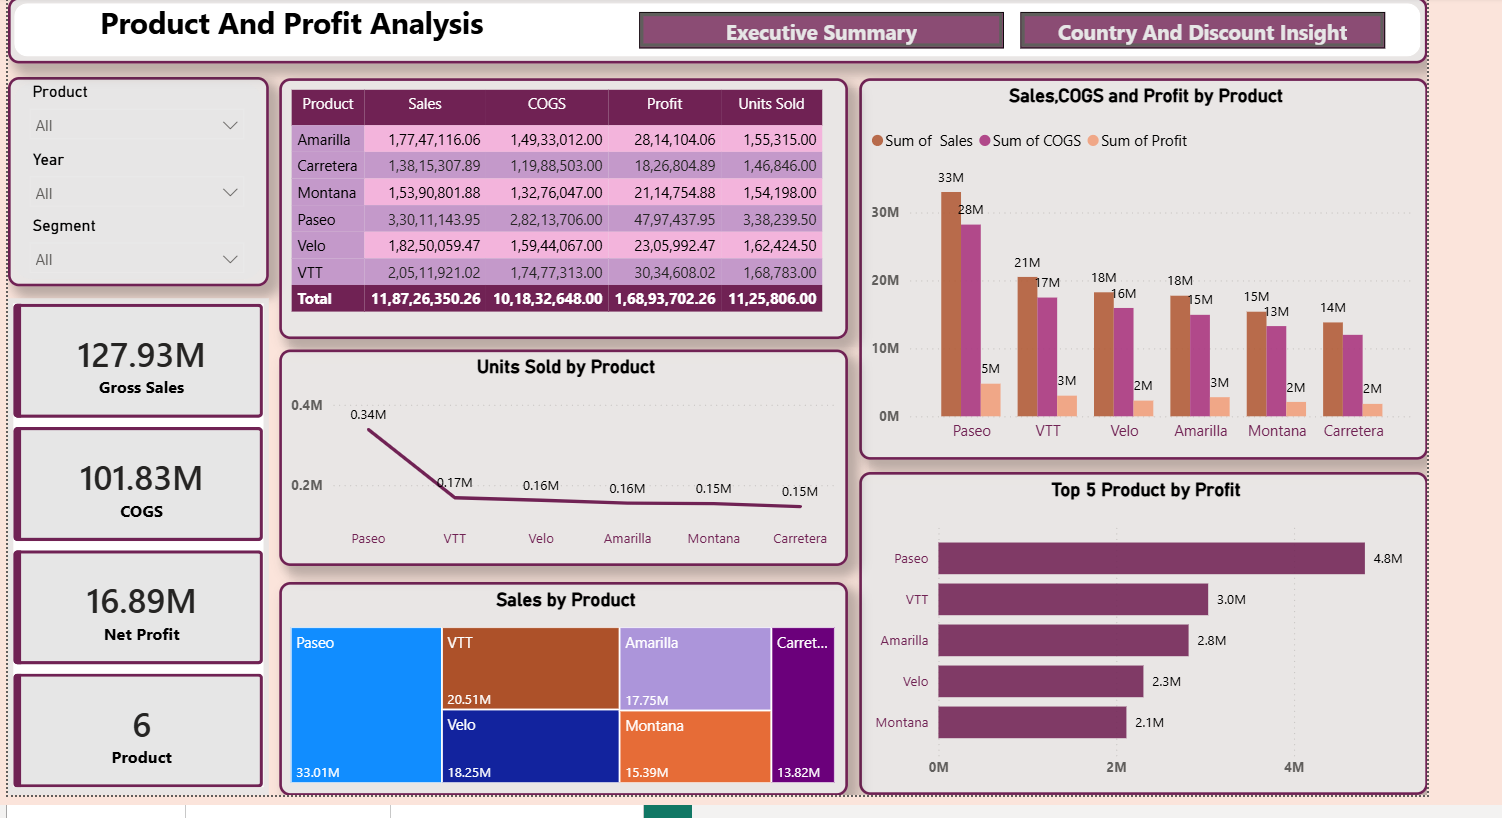

Layout of this report page (visuals, bound fields, positions):
{"tool":"powerbi","page":{"name":"Product Profit Analysis","canvas":[1280,720],"ordinal":1},"visuals":[{"type":"shape","box":[0,72.5,235,188.8],"z":0},{"type":"shape","box":[0,0,1280,60],"z":1000},{"type":"textbox","box":[10,0,491.2,60],"z":2000},{"type":"cardVisual","fields":{"Data":["Sum(financials.Gross Sales)","Sum(financials.COGS)","Sum(financials.Profit)","Count(financials.Product)"]},"box":[0,271.2,235,448.8],"z":3000},{"type":"clusteredColumnChart","title":"Sales,COGS and Profit by Product","fields":{"Category":["financials.Product"],"Y":["Sum(financials. Sales)","Sum(financials.COGS)","Sum(financials.Profit)"]},"box":[767.5,73.8,512.5,343.8],"z":4000},{"type":"barChart","title":"Top 5 Product by Profit","fields":{"Category":["financials.Product"],"Y":["Sum(financials.Profit)"]},"box":[767.5,428.8,512.5,291.2],"z":5000},{"type":"treemap","title":"Sales by Product","fields":{"Group":["financials.Product"],"Values":["Sum(financials. Sales)"]},"box":[245,527.5,512.5,192.5],"z":6000},{"type":"tableEx","fields":{"Values":["financials.Product","Sum(financials. Sales)","Sum(financials.COGS)","Sum(financials.Profit)","Sum(financials.Units Sold)"]},"box":[245,73.8,512.5,235],"z":7000},{"type":"lineChart","title":"Units Sold by Product","fields":{"Category":["financials.Product"],"Y":["Sum(financials.Units Sold)"]},"box":[245,317.5,512.5,195],"z":8000},{"type":"slicer","fields":{"Values":["financials.Product"]},"box":[8.8,72.5,213.8,60],"z":9000},{"type":"slicer","fields":{"Values":["financials.Year"]},"box":[8.8,132.5,213.8,60],"z":10000},{"type":"slicer","fields":{"Values":["financials.Segment"]},"box":[8.8,192.5,213.8,60],"z":11000},{"type":"actionButton","title":"Product Profit Analysis","box":[912.5,13.8,328.8,32.5],"z":12000},{"type":"actionButton","title":"Product Profit Analysis","box":[568.8,13.8,328.8,32.5],"z":13000}]}

Visuals, with their boxes on the page's 1280x720 design canvas (x1, y1, x2, y2). These are canvas units, not pixel positions in the 1502x818 screenshot, which may show the page scaled, cropped or inside an application window:
shape: 0:72:235:261
shape: 0:0:1280:60
textbox: 10:0:501:60
cardVisual - Sum(financials.Gross Sales) x Sum(financials.COGS): 0:271:235:720
"Sales,COGS and Profit by Product" clusteredColumnChart: 768:74:1280:418
"Top 5 Product by Profit" barChart: 768:429:1280:720
"Sales by Product" treemap: 245:528:758:720
tableEx - financials.Product x Sum(financials. Sales): 245:74:758:309
"Units Sold by Product" lineChart: 245:318:758:512
slicer - financials.Product: 9:72:223:132
slicer - financials.Year: 9:132:223:192
slicer - financials.Segment: 9:192:223:252
"Product Profit Analysis" actionButton: 912:14:1241:46
"Product Profit Analysis" actionButton: 569:14:898:46
